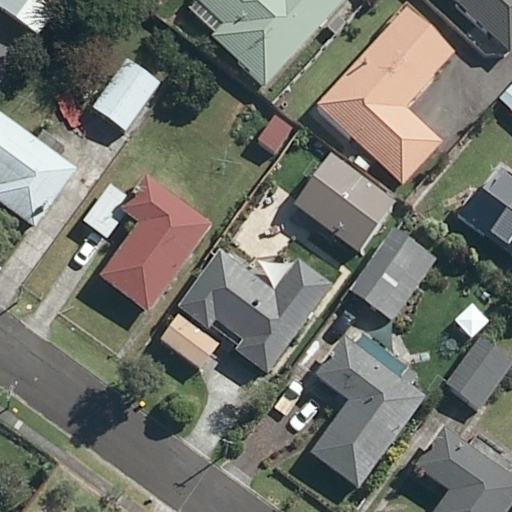DT: (1, 383, 16, 410)
